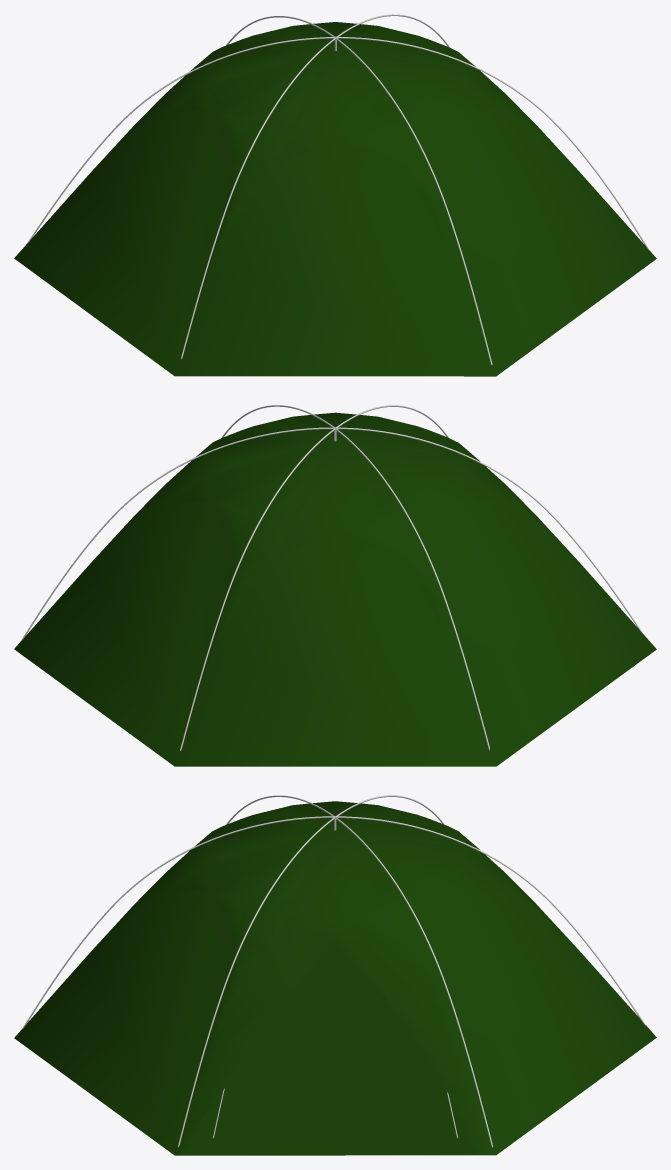
Rendered from LBSR_Tent_small.fbx.
3 views of the same model, one above another, from view 1: azimuth 30°, elevation 25°; view 2: azimuth 150°, elevation 25°; view 3: azimuth 270°, elevation 25° (orthographic).
Visible parts, largest first — view 1: tent, rod.001, rod.002, rod; view 2: tent, rod.002, rod, rod.001; view 3: tent, rod, rod.002, rod.001.
Part boxes in pixels (x1,y1,x2,y2): tent: (14, 22, 656, 376); rod.001: (27, 37, 649, 250); rod.002: (181, 14, 449, 359); rod: (226, 16, 492, 364); tent: (14, 412, 656, 766); rod.002: (20, 427, 643, 641); rod: (180, 405, 448, 750); rod.001: (221, 405, 489, 750); tent: (14, 801, 656, 1155); rod: (22, 816, 645, 1029); rod.002: (226, 795, 492, 1147); rod.001: (178, 795, 444, 1146).
Size of the model in its own units: 7.52 by 3.31 by 8.68.
